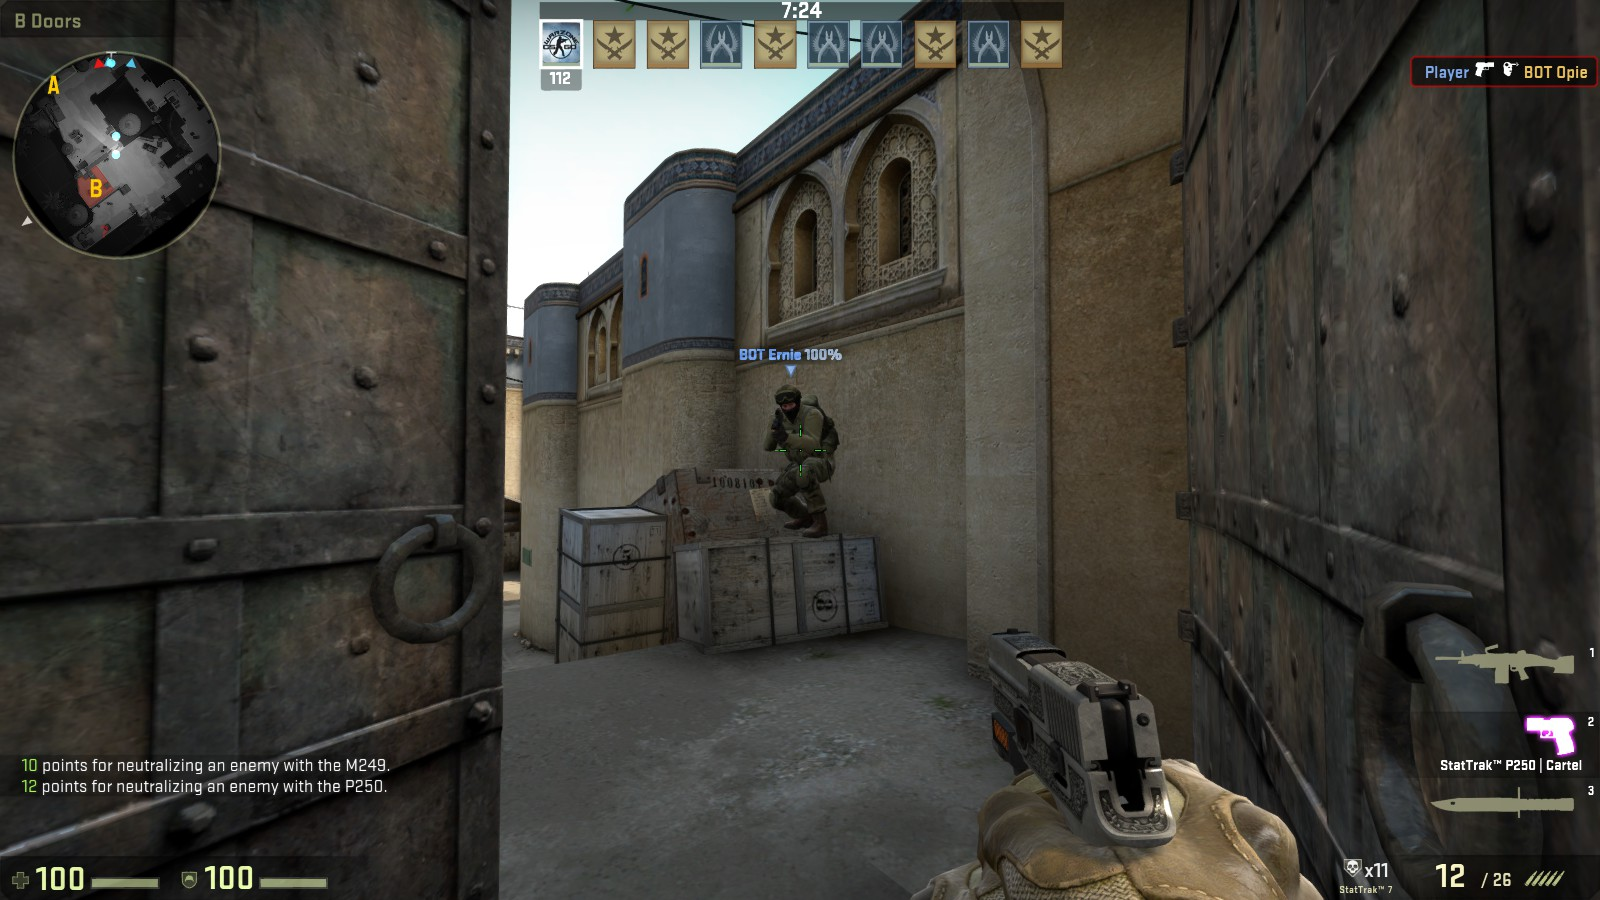c: (758, 381, 840, 538)
ch: (773, 382, 803, 420)
